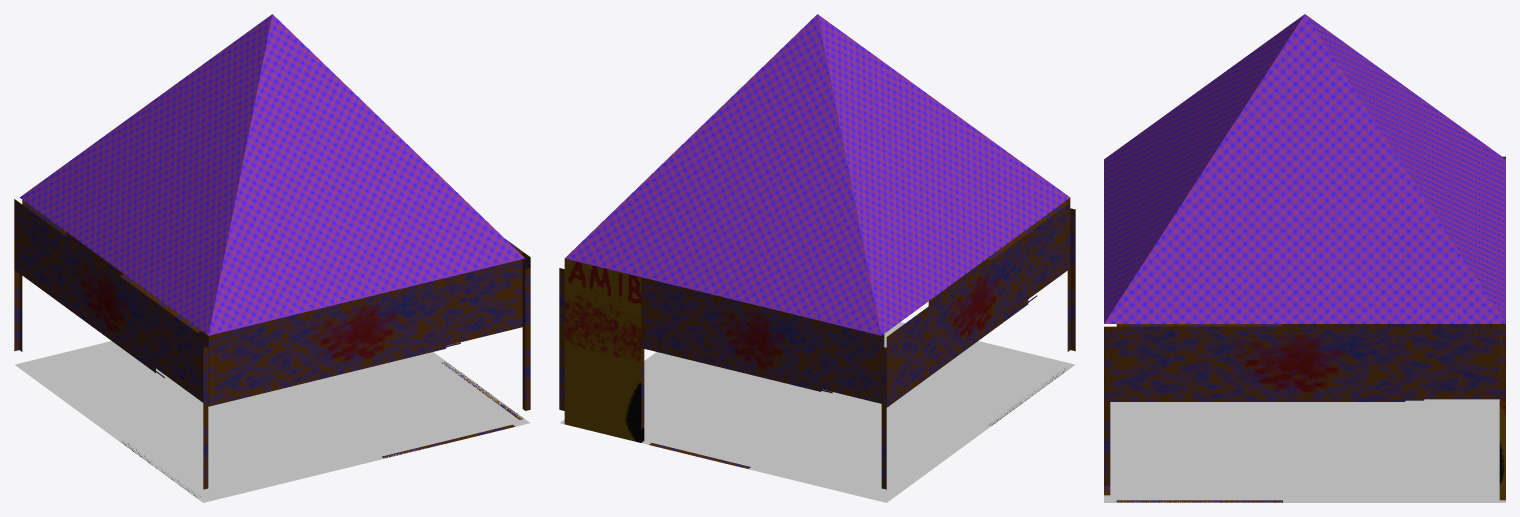
File: House.obj
3 views of the same model, side by side, from view 1: azimuth 30°, elevation 25°; view 2: azimuth 150°, elevation 25°; view 3: azimuth 270°, elevation 25° (orthographic). The views are drawn at different scales.
Visible parts, largest first — view 1: Roof, Wall, Floor; view 2: Roof, Floor, Wall, Door; view 3: Roof, Floor, Wall, Door.
Part boxes in pixels (x1=…): Roof: x1=20, y1=14, x2=524, y2=335; Wall: x1=14, y1=199, x2=530, y2=498; Floor: x1=15, y1=341, x2=530, y2=502; Roof: x1=565, y1=14, x2=1069, y2=335; Floor: x1=559, y1=322, x2=1074, y2=502; Wall: x1=559, y1=198, x2=1075, y2=489; Door: x1=564, y1=258, x2=644, y2=442; Roof: x1=1104, y1=14, x2=1505, y2=323; Floor: x1=1104, y1=399, x2=1505, y2=502; Wall: x1=1104, y1=156, x2=1505, y2=502; Door: x1=1499, y1=324, x2=1505, y2=500.
Size of the model in its own units: 4 by 4.44 by 4.
